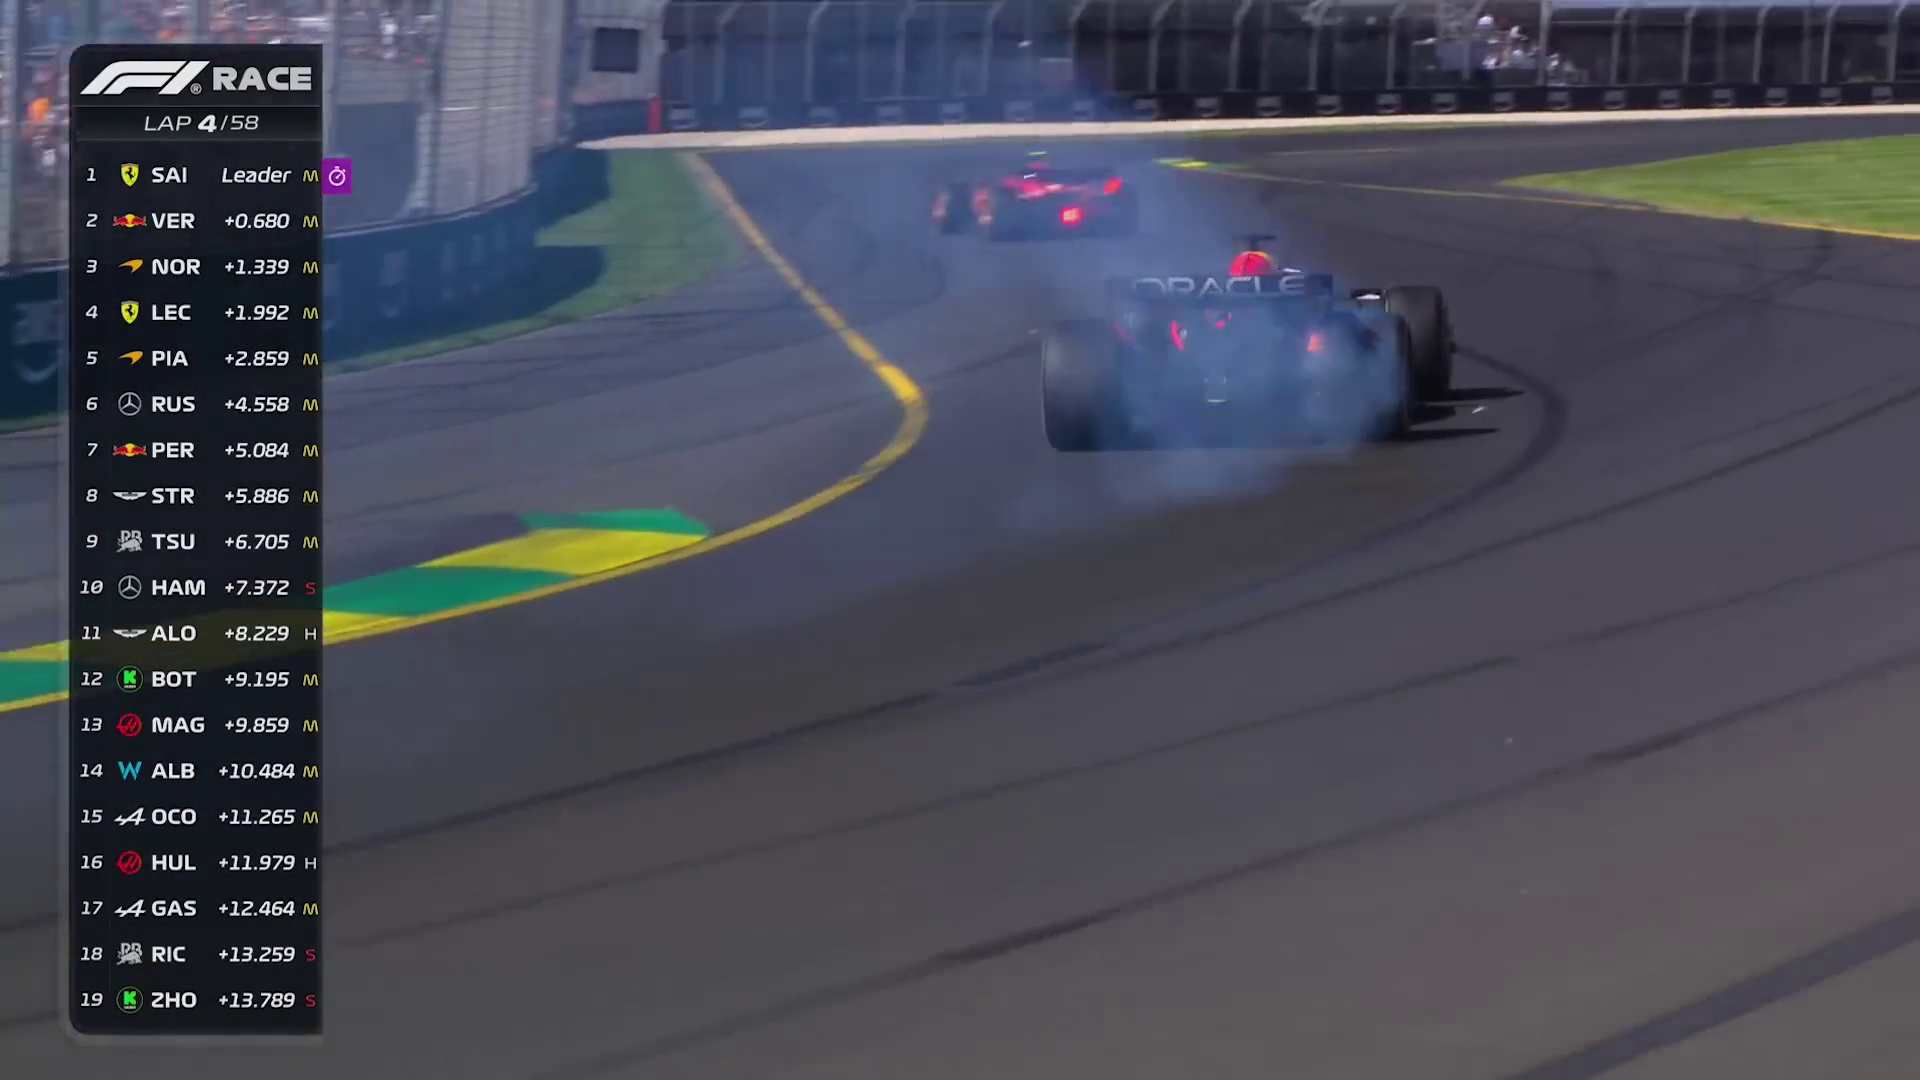Ferrari: (936, 162, 1139, 239)
RedBull: (1047, 258, 1449, 444)
